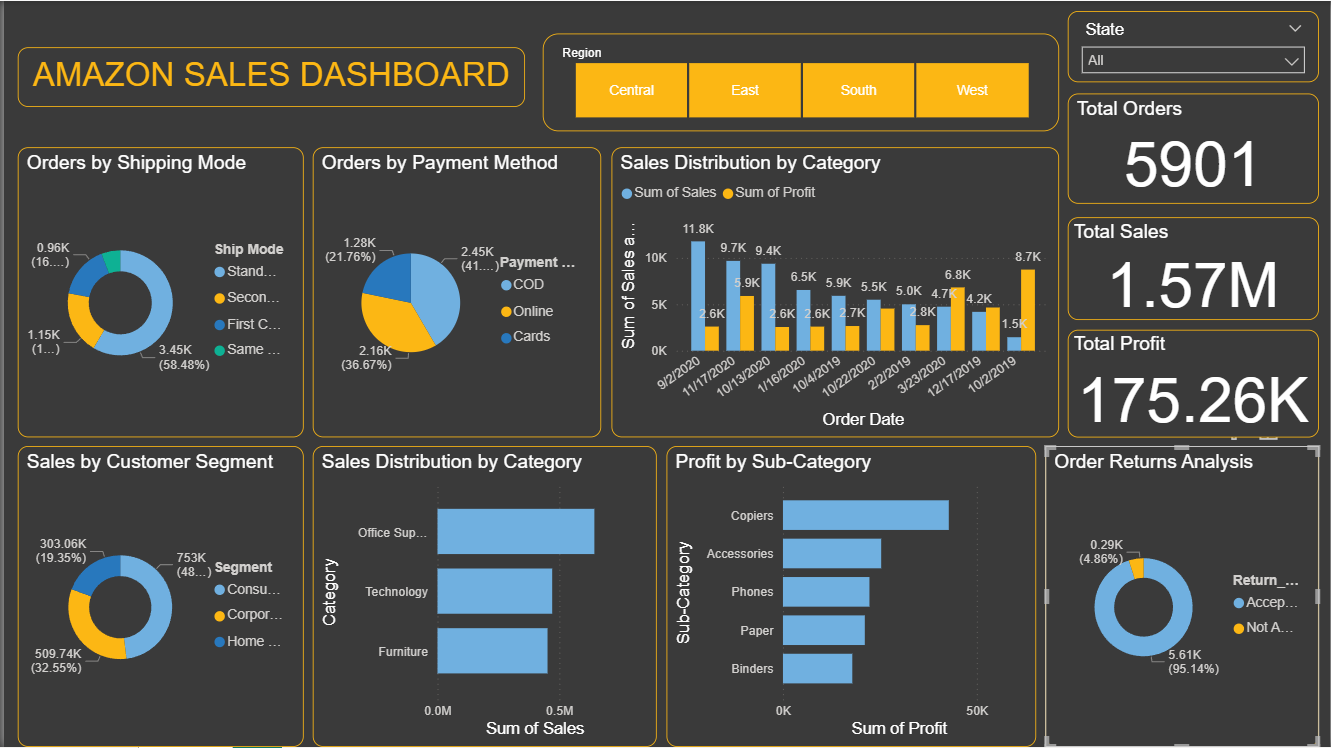

What the dashboard file says about the page in this screenshot:
{"tool":"powerbi","page":{"name":"Page 1","canvas":[1280,720],"ordinal":0},"visuals":[{"type":"donutChart","fields":{"Category":["Amazon Store Sales Data xlsx - Sheet1 (1).Ship Mode"],"Y":["CountNonNull(Amazon Store Sales Data xlsx - Sheet1 (1).Product ID)"]},"box":[13.3,141.2,276.3,279.9],"z":0},{"type":"donutChart","fields":{"Y":["Sum(Amazon Store Sales Data xlsx - Sheet1 (1).Sales)"],"Category":["Amazon Store Sales Data xlsx - Sheet1 (1).Segment"]},"box":[13.3,429.5,276.3,290.8],"z":1000},{"type":"pieChart","fields":{"Category":["Amazon Store Sales Data xlsx - Sheet1 (1).Payment Mode"],"Y":["CountNonNull(Amazon Store Sales Data xlsx - Sheet1 (1).Order ID)"]},"box":[298,141.2,278.7,279.9],"z":2000},{"type":"clusteredBarChart","fields":{"Category":["Amazon Store Sales Data xlsx - Sheet1 (1).Category"],"Y":["Sum(Amazon Store Sales Data xlsx - Sheet1 (1).Sales)"]},"box":[298,429.5,331.8,290.8],"z":3000},{"type":"clusteredBarChart","fields":{"Category":["Amazon Store Sales Data xlsx - Sheet1 (1).Sub-Category"],"Y":["Sum(Amazon Store Sales Data xlsx - Sheet1 (1).Profit)"]},"box":[639.4,429.5,357.1,290.8],"z":4000},{"type":"donutChart","fields":{"Category":["Amazon Store Sales Data xlsx - Sheet1 (1).Return_Status"],"Y":["CountNonNull(Amazon Store Sales Data xlsx - Sheet1 (1).Order ID)"]},"box":[1005,429.5,264.2,290.8],"z":5000},{"type":"clusteredColumnChart","fields":{"Category":["Amazon Store Sales Data xlsx - Sheet1 (1).Order Date"],"Y":["Sum(Amazon Store Sales Data xlsx - Sheet1 (1).Sales)","Sum(Amazon Store Sales Data xlsx - Sheet1 (1).Profit)"]},"box":[586.3,141.2,431.9,279.9],"z":6000},{"type":"slicer","fields":{"Values":["Amazon Store Sales Data xlsx - Sheet1 (1).Region"]},"box":[520,31.4,498.3,94.1],"z":7000},{"type":"card","fields":{"Values":["Sum(Amazon Store Sales Data xlsx - Sheet1 (1).Sales)"]},"box":[1026.7,208.7,242.5,98.9],"z":8000},{"type":"card","fields":{"Values":["Sum(Amazon Store Sales Data xlsx - Sheet1 (1).Profit)"]},"box":[1026.7,317.3,242.5,103.8],"z":9000},{"type":"card","fields":{"Values":["CountNonNull(Amazon Store Sales Data xlsx - Sheet1 (1).Order ID)"]},"box":[1026.7,89.3,242.5,106.2],"z":10000},{"type":"slicer","fields":{"Values":["Amazon Store Sales Data xlsx - Sheet1 (1).State"]},"box":[1026.7,9.7,242.5,68.8],"z":11000},{"type":"textbox","box":[13.3,44.6,489.8,57.9],"z":12000}]}

Visuals, with their boxes in screenshot pixels (x1, y1, x2, y2), scaled from the page's 1280x720 canvas onto the 1331x748 screenshot:
donutChart - Amazon Store Sales Data xlsx - Sheet1 (1).Ship Mode x CountNonNull(Amazon Store Sales Data xlsx - Sheet1 (1).Product ID): <bbox>14, 147, 301, 437</bbox>
donutChart - Sum(Amazon Store Sales Data xlsx - Sheet1 (1).Sales) x Amazon Store Sales Data xlsx - Sheet1 (1).Segment: <bbox>14, 446, 301, 747</bbox>
pieChart - Amazon Store Sales Data xlsx - Sheet1 (1).Payment Mode x CountNonNull(Amazon Store Sales Data xlsx - Sheet1 (1).Order ID): <bbox>310, 147, 600, 437</bbox>
clusteredBarChart - Amazon Store Sales Data xlsx - Sheet1 (1).Category x Sum(Amazon Store Sales Data xlsx - Sheet1 (1).Sales): <bbox>310, 446, 655, 747</bbox>
clusteredBarChart - Amazon Store Sales Data xlsx - Sheet1 (1).Sub-Category x Sum(Amazon Store Sales Data xlsx - Sheet1 (1).Profit): <bbox>665, 446, 1036, 747</bbox>
donutChart - Amazon Store Sales Data xlsx - Sheet1 (1).Return_Status x CountNonNull(Amazon Store Sales Data xlsx - Sheet1 (1).Order ID): <bbox>1045, 446, 1320, 747</bbox>
clusteredColumnChart - Amazon Store Sales Data xlsx - Sheet1 (1).Order Date x Sum(Amazon Store Sales Data xlsx - Sheet1 (1).Sales): <bbox>610, 147, 1059, 437</bbox>
slicer - Amazon Store Sales Data xlsx - Sheet1 (1).Region: <bbox>541, 33, 1059, 130</bbox>
card - Sum(Amazon Store Sales Data xlsx - Sheet1 (1).Sales): <bbox>1068, 217, 1320, 320</bbox>
card - Sum(Amazon Store Sales Data xlsx - Sheet1 (1).Profit): <bbox>1068, 330, 1320, 437</bbox>
card - CountNonNull(Amazon Store Sales Data xlsx - Sheet1 (1).Order ID): <bbox>1068, 93, 1320, 203</bbox>
slicer - Amazon Store Sales Data xlsx - Sheet1 (1).State: <bbox>1068, 10, 1320, 82</bbox>
textbox: <bbox>14, 46, 523, 106</bbox>
